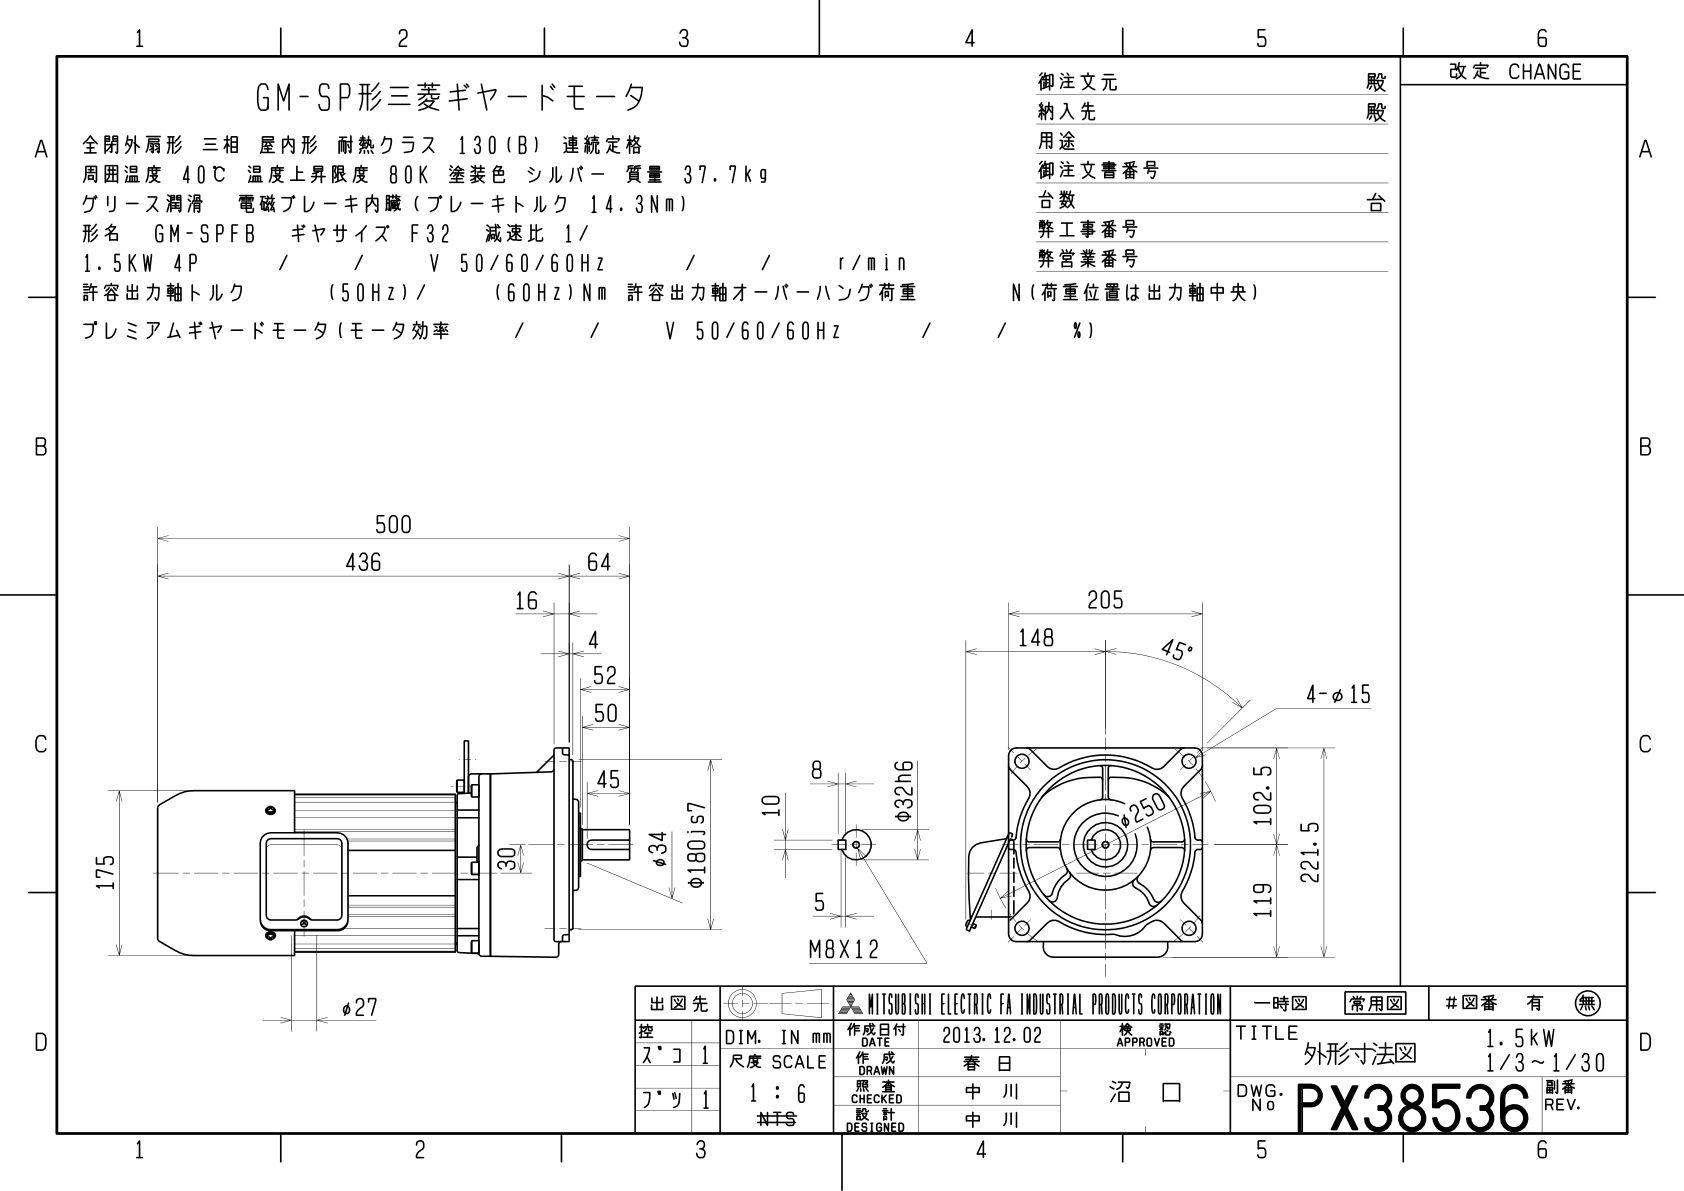GM_SP_屋内_三相_フランジ: (77, 467, 1385, 965)
